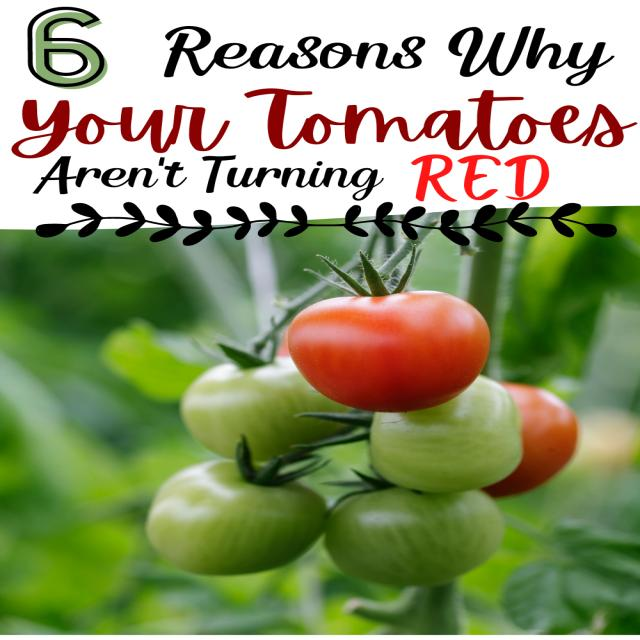level 1: (327, 484, 495, 590)
level 2: (150, 454, 330, 576), (188, 356, 362, 455)
level 3: (374, 381, 524, 496)
level 6: (284, 289, 490, 410), (420, 380, 585, 494)
